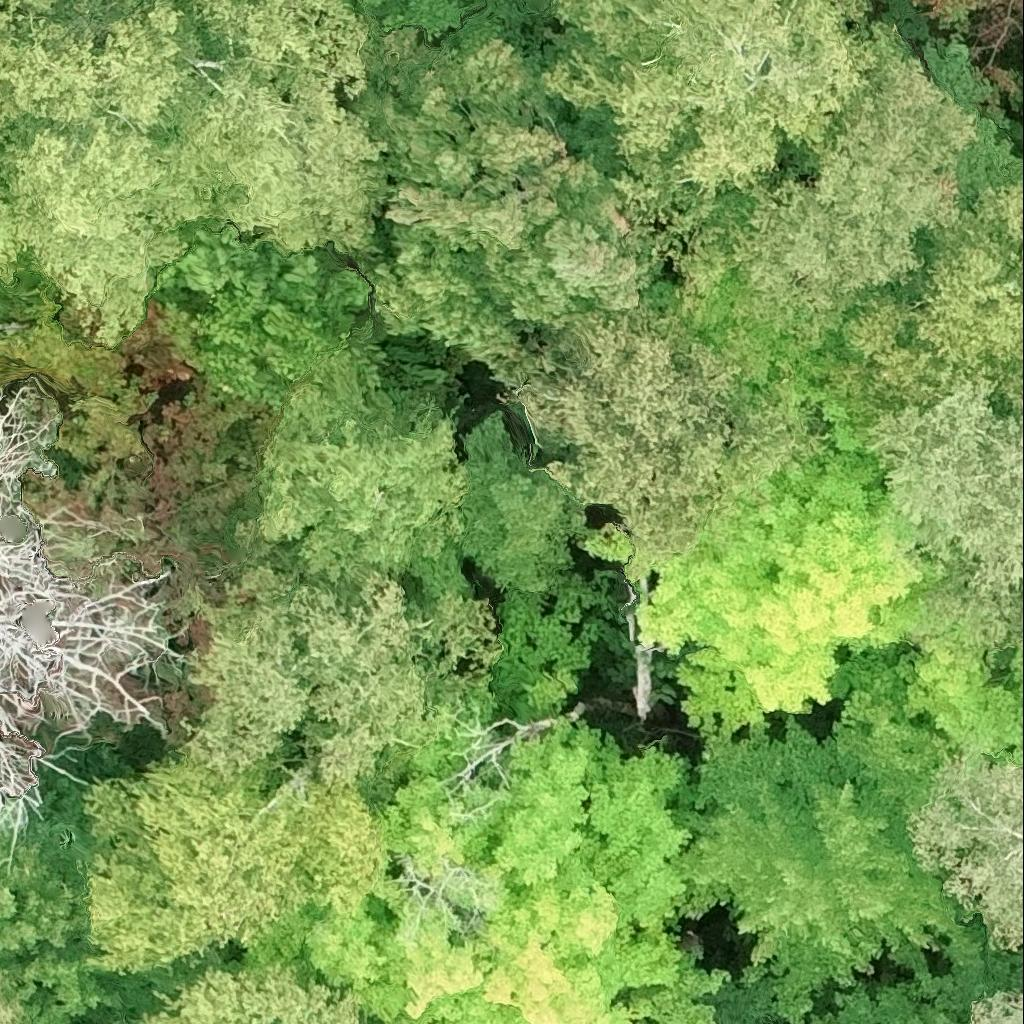crown: (244, 565, 786, 1023), (332, 15, 728, 368), (637, 400, 947, 741), (499, 270, 822, 587), (667, 692, 965, 1023), (685, 16, 975, 314), (0, 379, 175, 825), (74, 741, 388, 984), (177, 559, 503, 791), (547, 0, 875, 195), (795, 180, 1023, 446), (232, 346, 467, 578), (167, 0, 383, 252), (0, 123, 201, 341), (862, 375, 1023, 599), (830, 586, 1023, 763), (0, 779, 133, 1023), (0, 0, 208, 144), (809, 910, 1023, 1023), (909, 751, 1023, 949), (133, 966, 372, 1023), (928, 577, 1023, 669), (0, 180, 30, 287), (967, 989, 1023, 1023), (0, 974, 29, 1023), (0, 134, 3, 146)
